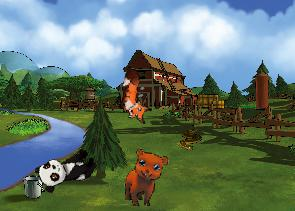bear: (123, 148, 169, 209)
fox: (114, 67, 159, 125)
panda: (33, 143, 100, 195)
